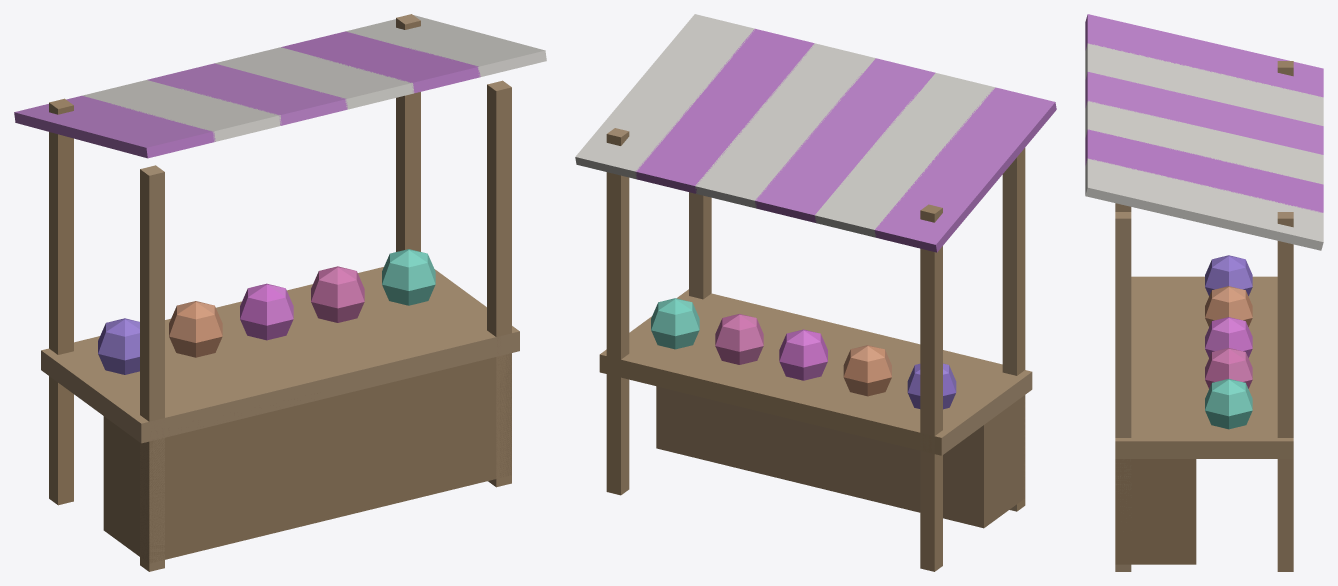
The model's file is market_stall.glb.
The picture shows the model from 3 angles, left to right: view 1: azimuth 30°, elevation 25°; view 2: azimuth 150°, elevation 25°; view 3: azimuth 270°, elevation 25°; orthographic projection. The views are drawn at different scales.
Parts seen in each view (by area): view 1: market_stall2; view 2: market_stall2; view 3: market_stall2.
Boxes of the visible parts, bbox=[...] form: market_stall2: bbox=[14, 14, 546, 571]; market_stall2: bbox=[575, 14, 1056, 571]; market_stall2: bbox=[1085, 14, 1323, 571].
Size of the model in its own units: 2.53 by 2.66 by 1.47.
